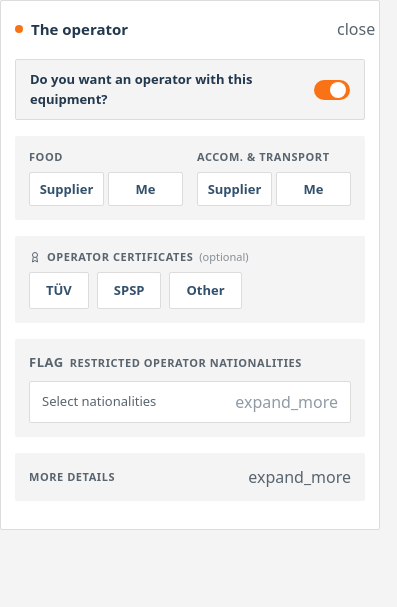
Test: nationality is HIDDEN (owner, 2026-09-22) › reads the night shift as words, not a bare boolean
Click the button "MORE DETAILS expand_more". click: (72, 476)
box: top-left (15, 453), bottom-right (365, 501)
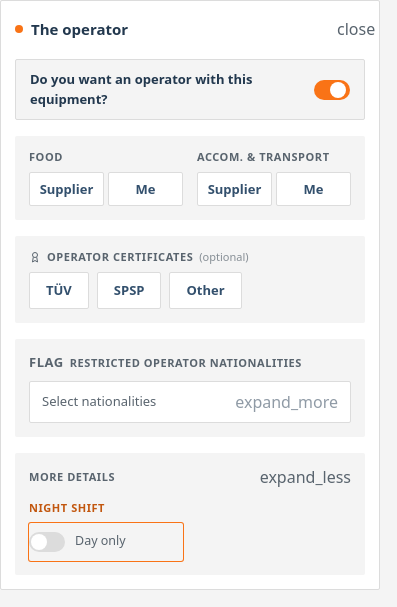
expect the text "Day only" is shown: met, box top-left (75, 532), bottom-right (126, 551)
Click the switch next to "Day only". click: (47, 542)
box: top-left (29, 532), bottom-right (65, 552)
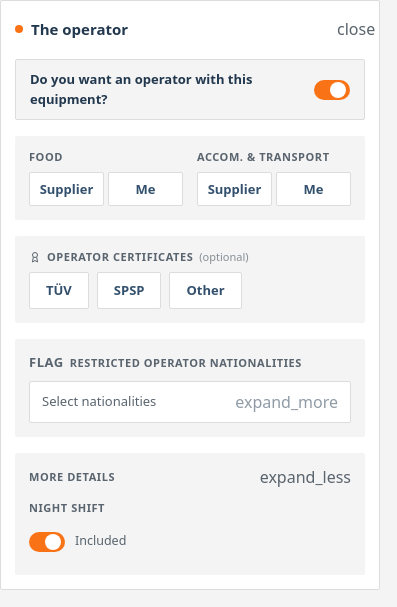
expect the text "Included" is shown: met, box top-left (75, 532), bottom-right (126, 551)
